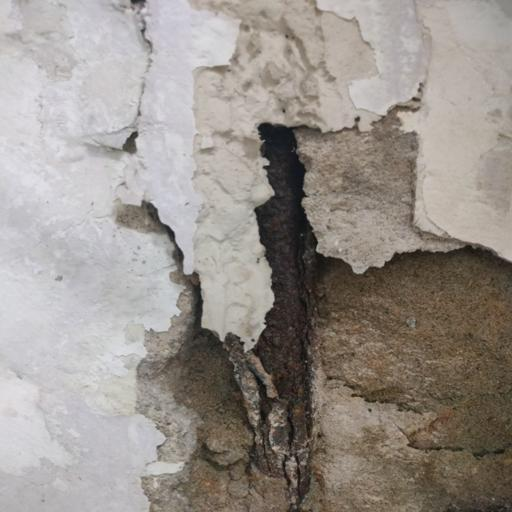spalling: (111, 103, 512, 512)
